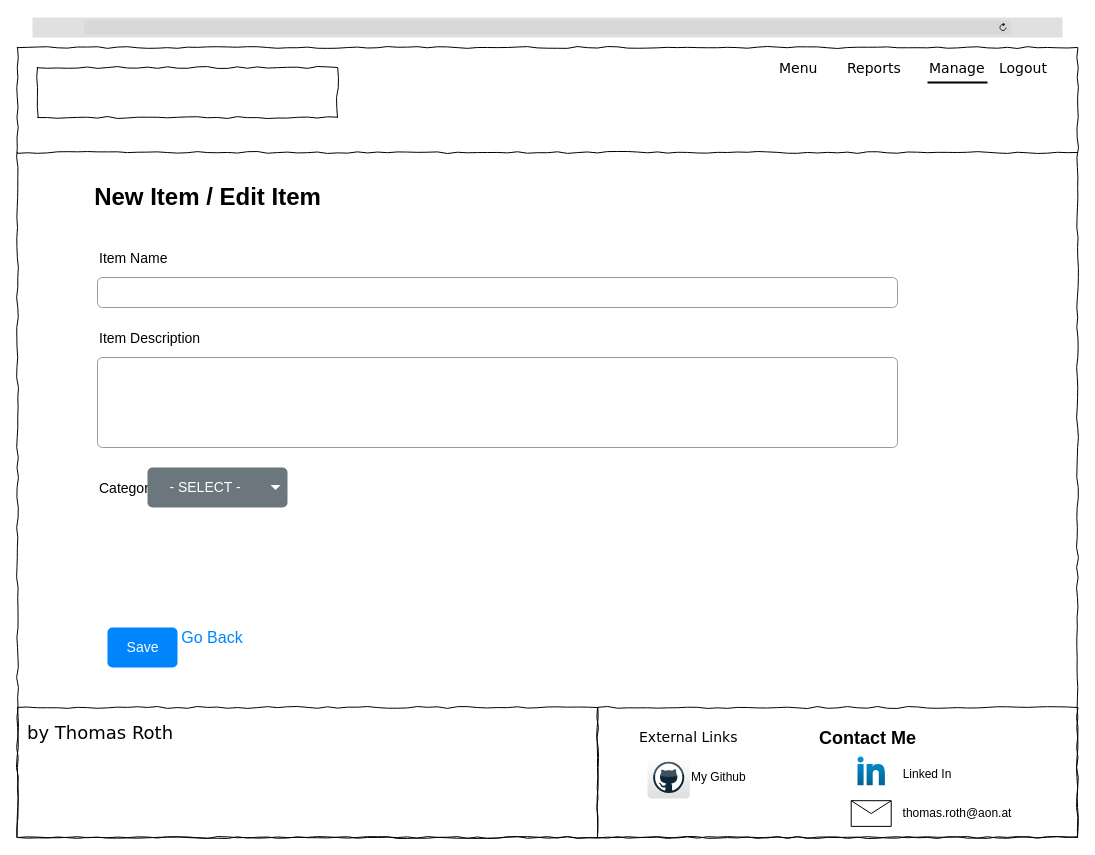
Image size: 1095x855. Some labels were removed from this diagram. The shapes that lost their labels are listed below. From the top down, each one's box as (x1, y1, x2, y2) in pixels, then its label:
(32, 16, 1062, 38): 4thWallCafe/Manage/Items
(36, 66, 338, 118): 4th Wall Cafe
